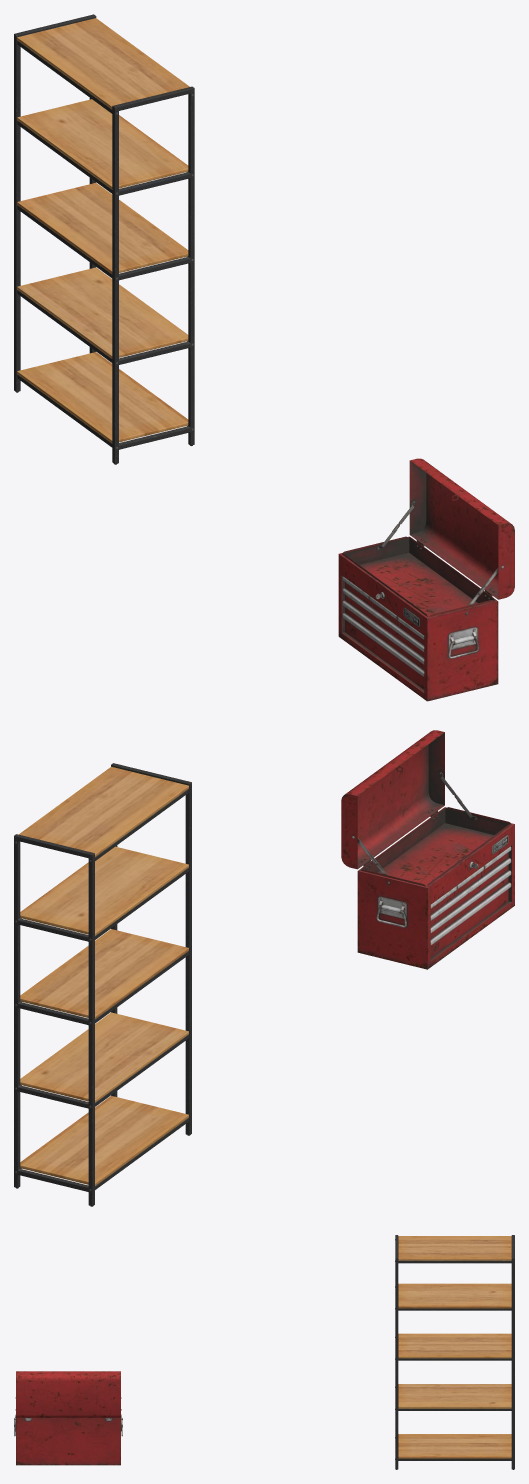
The model's file is slab_house_garagefurn.glb.
3 renders of one model, top to bottom at view 1: azimuth 30°, elevation 25°; view 2: azimuth 150°, elevation 25°; view 3: azimuth 270°, elevation 25°, orthographic. The views are drawn at different scales.
Parts seen in each view (by area): view 1: furn_shelving_garage, furn_tool_chest_garage; view 2: furn_shelving_garage, furn_tool_chest_garage; view 3: furn_shelving_garage, furn_tool_chest_garage.
Part boxes in pixels (x1,y1,x2,y2): furn_shelving_garage: (14,14,194,464); furn_tool_chest_garage: (338,458,514,701); furn_shelving_garage: (14,763,191,1206); furn_tool_chest_garage: (341,730,514,969); furn_shelving_garage: (395,1235,514,1469); furn_tool_chest_garage: (14,1371,122,1465).
Bounding box in the file's own units: 0.5935 × 2.14 × 4.58.
2 materials, 2 textured.
